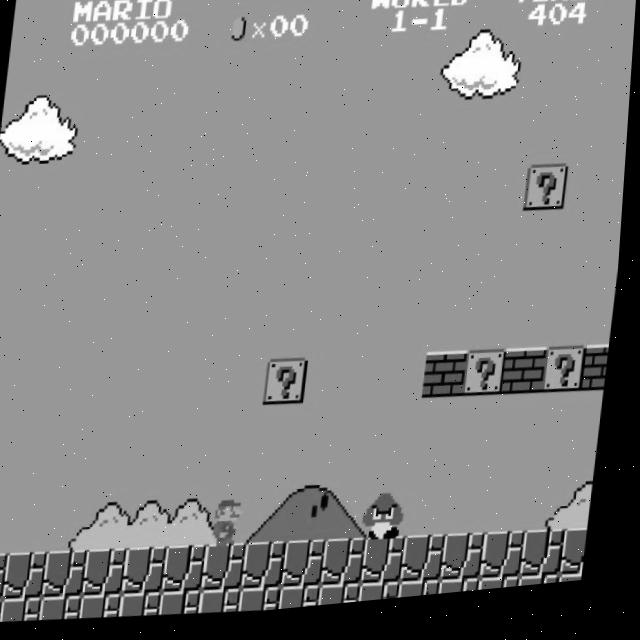1- brick_block: (428, 358, 473, 409), (508, 357, 553, 408), (588, 356, 615, 405)
11- little_mario: (208, 500, 257, 555)
13- mystery_block: (547, 355, 593, 407), (268, 362, 314, 413), (468, 357, 513, 408), (527, 173, 572, 224)
17- undestructible_block: (169, 547, 215, 599), (209, 546, 255, 598), (249, 545, 295, 597), (289, 544, 335, 596), (10, 551, 56, 602), (50, 550, 96, 601), (90, 549, 136, 600), (488, 540, 534, 591), (528, 539, 574, 590), (329, 543, 374, 595), (130, 548, 175, 599), (369, 543, 414, 594), (409, 542, 454, 593), (449, 541, 494, 592), (569, 540, 595, 588), (47, 596, 91, 624), (87, 595, 131, 623), (127, 594, 171, 622), (246, 591, 290, 619), (8, 597, 51, 625), (167, 593, 210, 621), (207, 592, 250, 620), (286, 590, 330, 616), (326, 589, 370, 613), (366, 588, 409, 610), (406, 587, 449, 607), (0, 552, 16, 603), (446, 586, 489, 604), (486, 585, 529, 601), (526, 584, 569, 598), (0, 598, 11, 626), (567, 585, 591, 594)
8- goomba: (366, 497, 414, 551)
